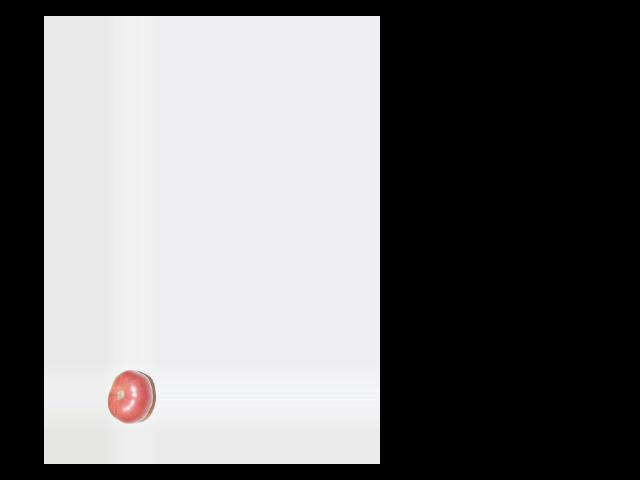tomato: (107, 369, 152, 424)
